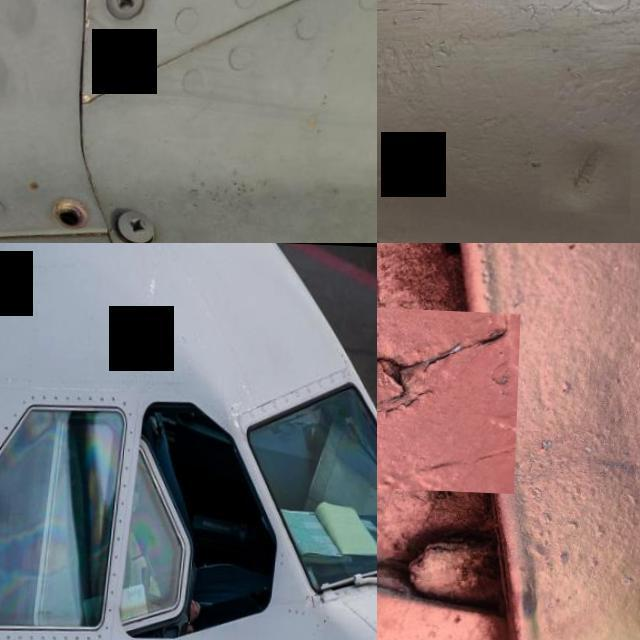Crack: (377, 298, 522, 490), (308, 591, 323, 606)
Dent: (543, 119, 635, 211)
Missing_Fastener: (35, 173, 110, 243)
